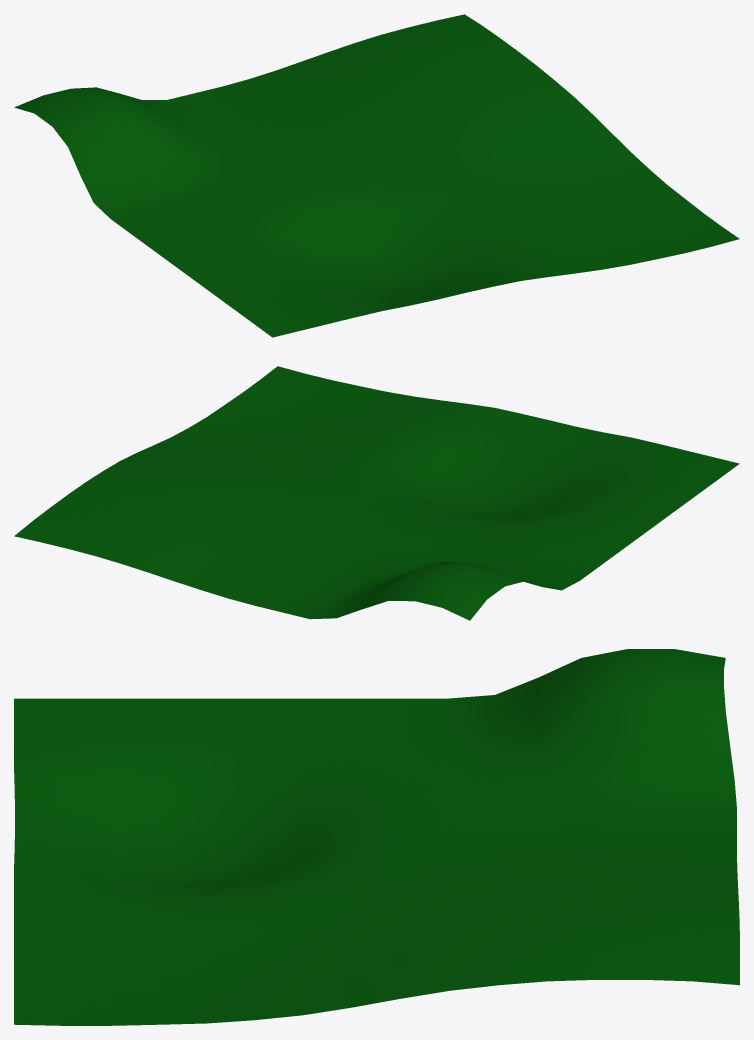
File: Terreno.fbx
3 renders of one model, top to bottom at view 1: azimuth 30°, elevation 25°; view 2: azimuth 150°, elevation 25°; view 3: azimuth 270°, elevation 25°, orthographic. The views are drawn at different scales.
Parts seen in each view (by area): view 1: Plane; view 2: Plane; view 3: Plane.
Part boxes in pixels (box(x1,y1,x2,y2)): Plane: box(14, 14, 739, 337); Plane: box(14, 366, 739, 620); Plane: box(14, 649, 739, 1025).
Bounding box in the file's own units: 4000 × 628 × 4017.
